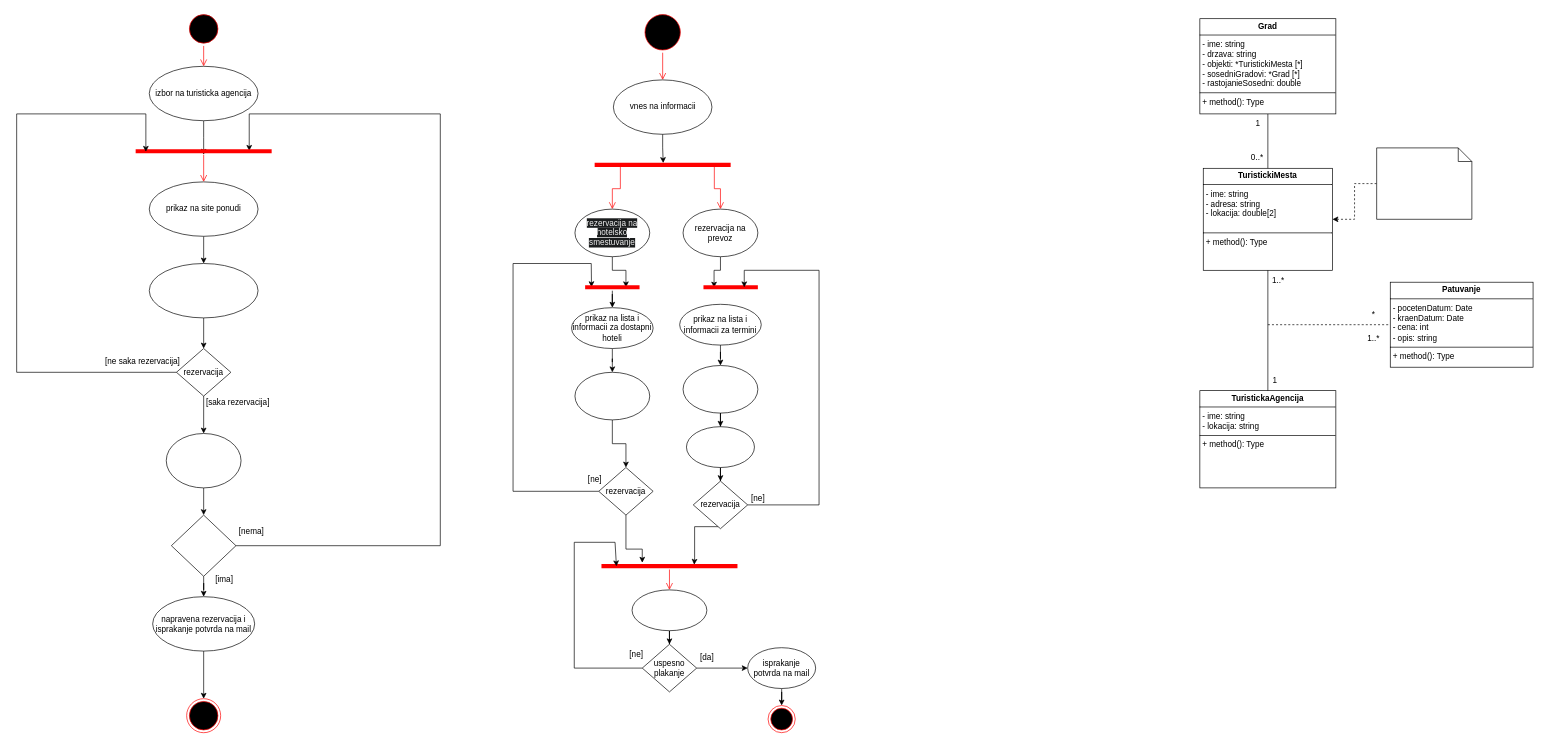
The diagram is 1545 pixels wide and 745 high, and some of its shapes have lost their labels. Here are the shapes that lost their labels. From the top down, the box of each, then its label:
(1376, 147, 1472, 219): double[0] cuva geografska sirina; double[1] cuva geografska dolzina
(149, 263, 258, 318): izbor na patuvanje od lista
(574, 372, 650, 420): izbor na hotel
(682, 365, 758, 413): izbor na ponuda
(166, 433, 241, 488): popolnuvanje forma
(686, 426, 754, 468): vnes na informacii za patnici
(171, 514, 236, 576): proverka za slobodni mesta
(631, 589, 707, 631): vnes na broj na karticka
